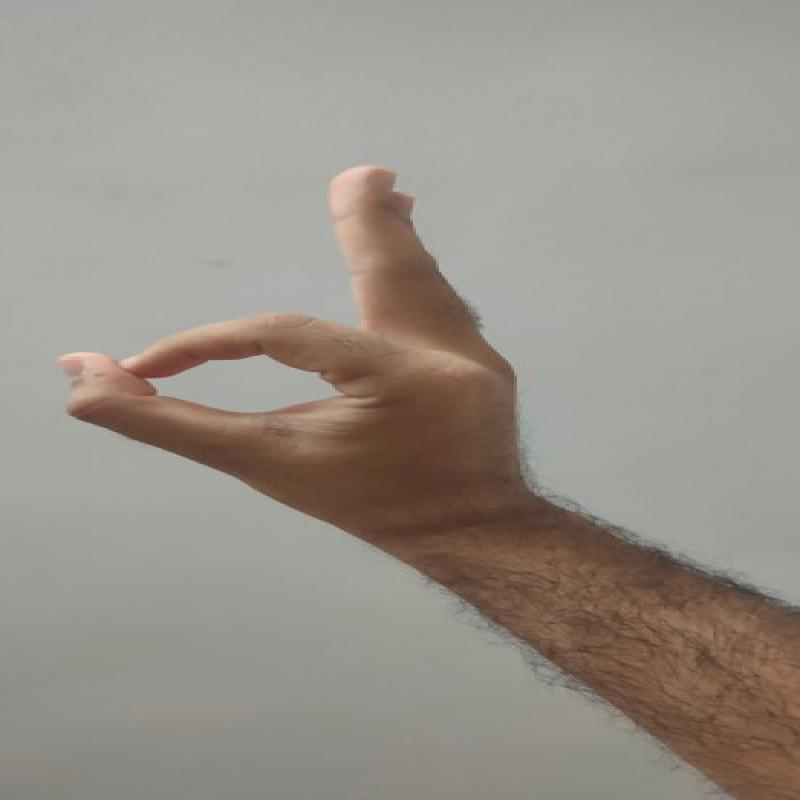Mudraakhyam: (42, 133, 534, 520)
